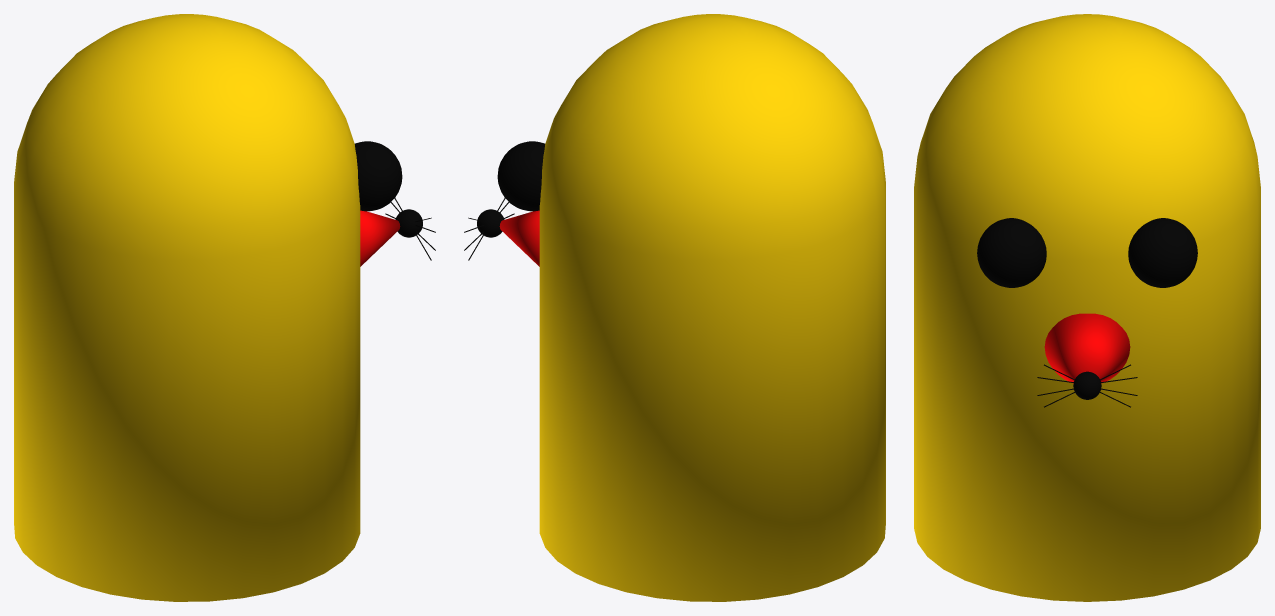
Rendered from mogura_gold.fbx.
3 views of the same model, side by side, from view 1: azimuth 30°, elevation 25°; view 2: azimuth 150°, elevation 25°; view 3: azimuth 270°, elevation 25° (orthographic).
Parts seen in each view (by area): view 1: 球, 球.001, 円錐, 球.002; view 2: 球, 球.001, 円錐, 球.002; view 3: 球, 球.001, 円錐, 球.002.
Part boxes in pixels (left/top/right/bottom): 球: left=14, top=14, right=360, bottom=601; 球.001: left=355, top=141, right=402, bottom=211; 円錐: left=360, top=210, right=400, bottom=266; 球.002: left=395, top=209, right=422, bottom=237; 球: left=539, top=14, right=885, bottom=601; 球.001: left=497, top=141, right=544, bottom=211; 円錐: left=499, top=210, right=539, bottom=266; 球.002: left=477, top=209, right=504, bottom=237; 球: left=914, top=14, right=1260, bottom=601; 球.001: left=977, top=218, right=1197, bottom=287; 円錐: left=1044, top=313, right=1130, bottom=383; 球.002: left=1073, top=371, right=1101, bottom=399.
Bounding box in the file's own units: 256 × 317 × 200.
